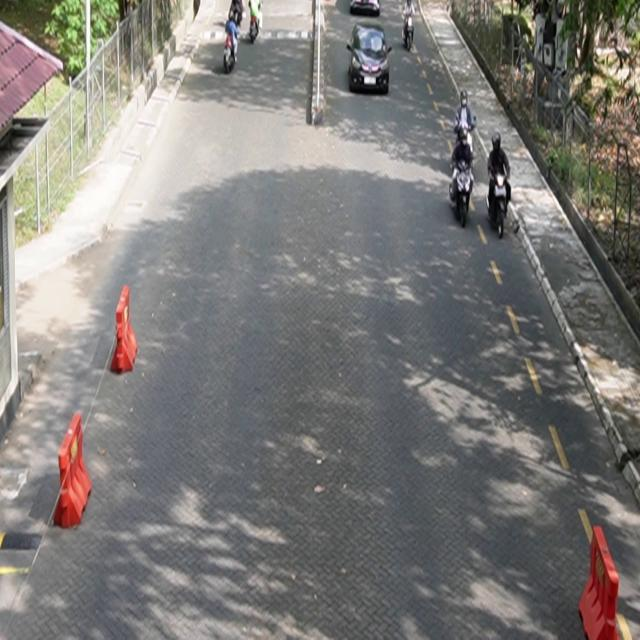car: (347, 24, 392, 95), (350, 1, 380, 16)
